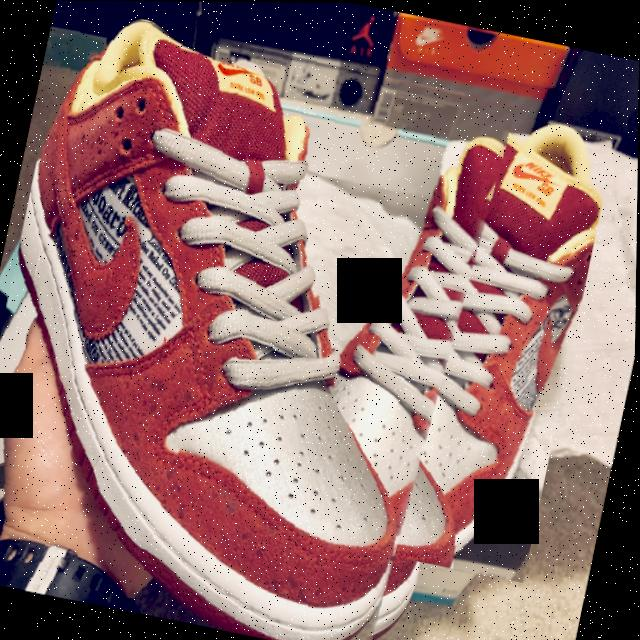shoe: (0, 3, 520, 640), (313, 86, 619, 583)
